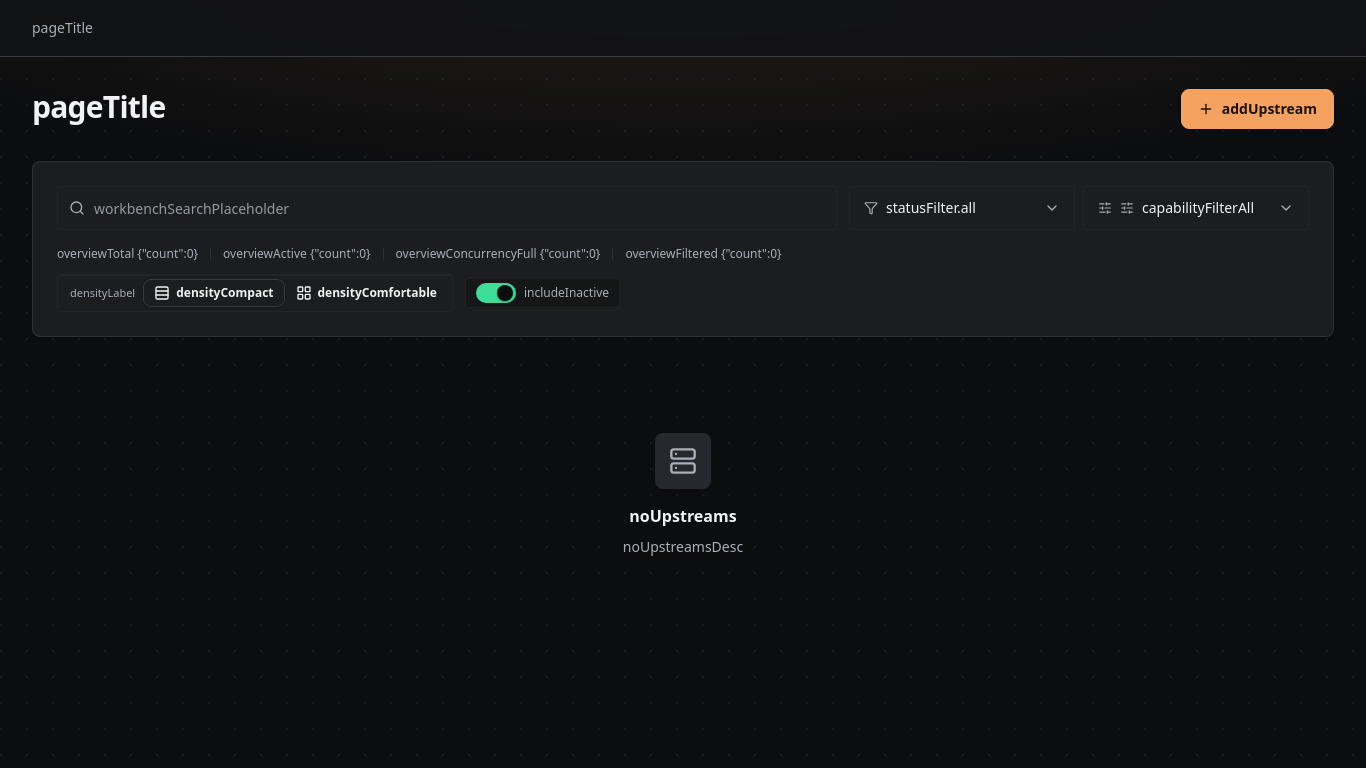
Test: UpstreamsPage filter-aware empty state › switches empty-state copy when filters become active and resets back
The width and height of the screenshot is (1366, 768).
Expected: the heading "noUpstreams" is shown, [629,505,737,528]
Expected: the text "noFilteredUpstreams" is not shown
Type "openai" into the field labelled "workbenchSearchPlaceholder" at (447, 208), box [57,186,837,230]
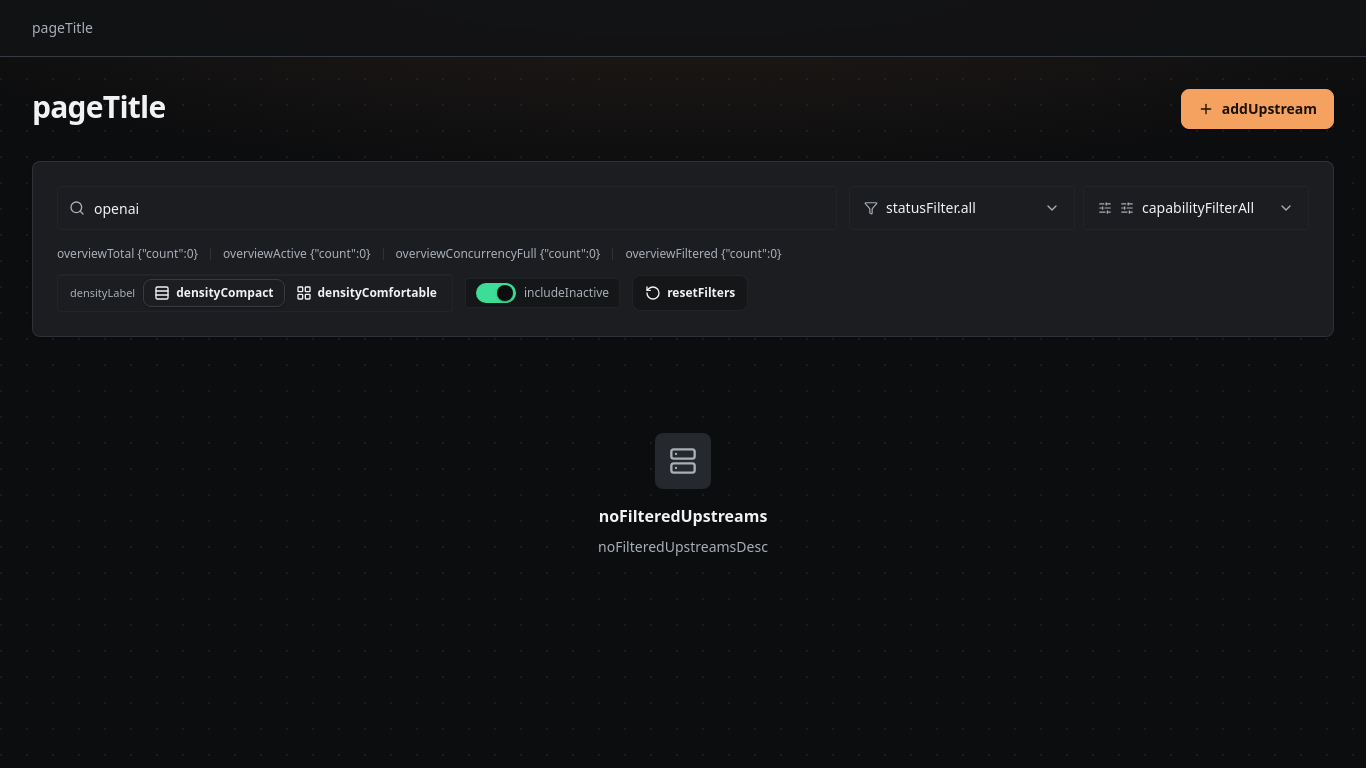
Result: the heading "noFilteredUpstreams" is shown at [599,505,767,528]
Result: the button "resetFilters" is shown
Click the button "resetFilters" at (690, 293), box [632,275,748,311]
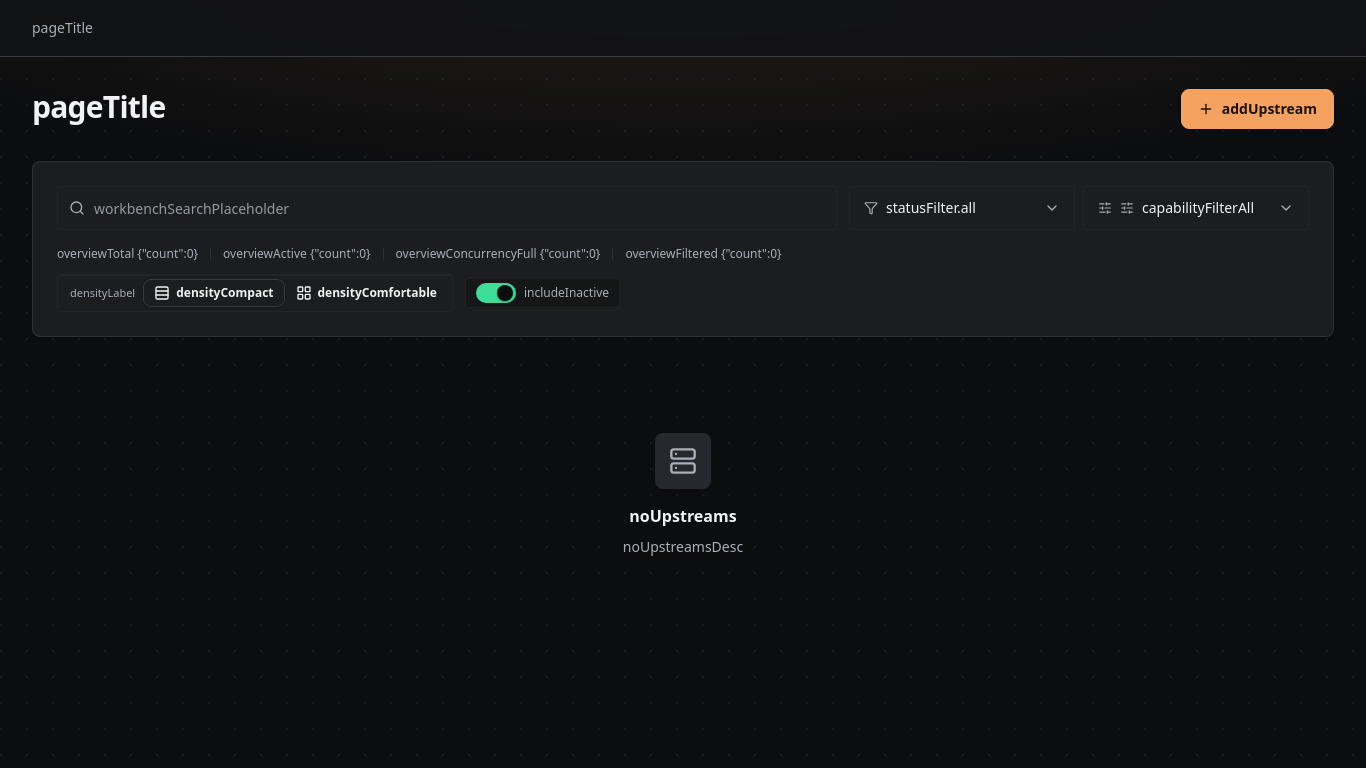
Result: the heading "noUpstreams" is shown at [629,505,737,528]
Result: the heading "noFilteredUpstreams" is gone
Result: the field labelled "workbenchSearchPlaceholder" is empty at [57,186,837,230]
